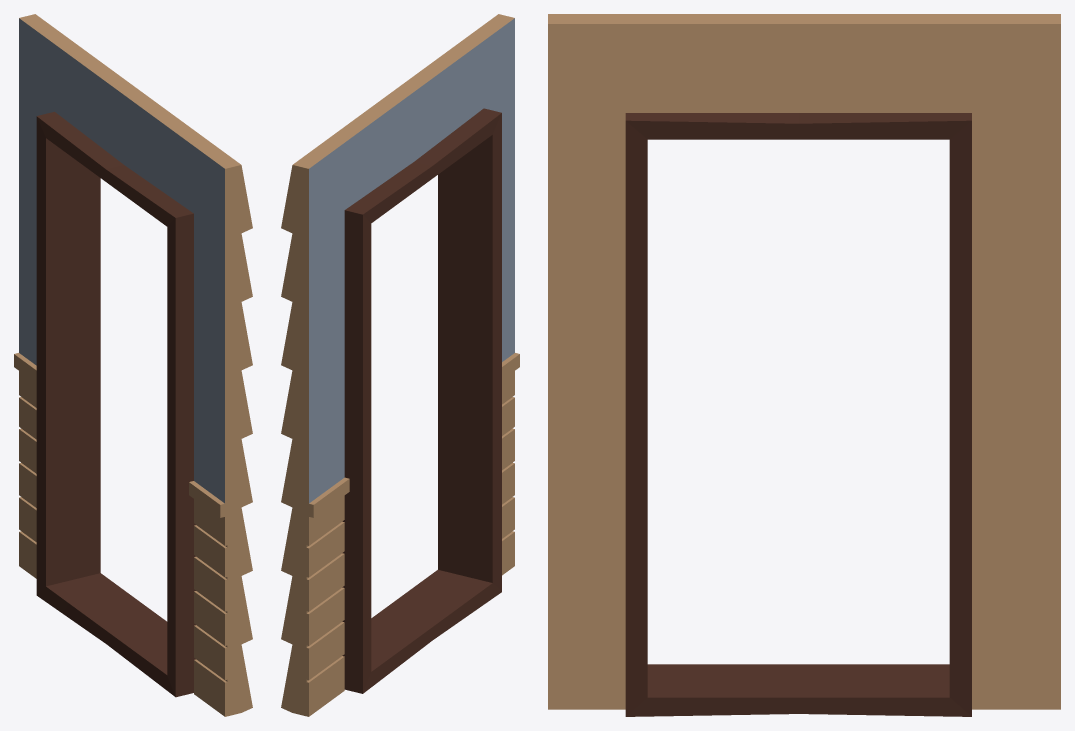
Rendered from Small Door B-col.glb.
The picture shows the model from 3 angles, left to right: view 1: azimuth 30°, elevation 25°; view 2: azimuth 150°, elevation 25°; view 3: azimuth 270°, elevation 25°; orthographic projection. The views are drawn at different scales.
Parts seen in each view (by area): view 1: Small Door B-col.001; view 2: Small Door B-col.001; view 3: Small Door B-col.001.
Part boxes in pixels (left/top/right/bottom): Small Door B-col.001: left=14, top=14, right=252, bottom=716; Small Door B-col.001: left=281, top=14, right=519, bottom=716; Small Door B-col.001: left=548, top=14, right=1060, bottom=716.
Bounding box in the file's own units: 0.2339 × 2.2 × 1.5.
